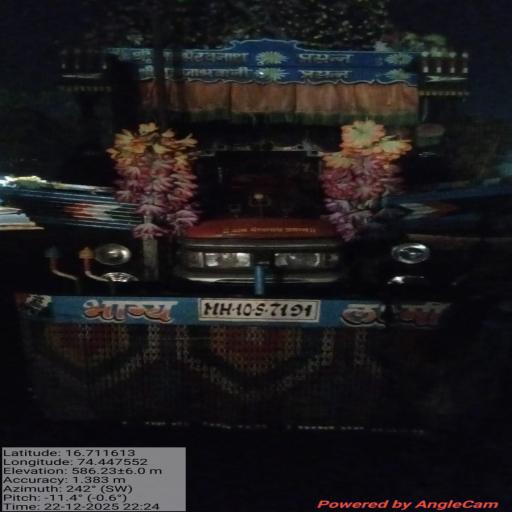number_plate: (195, 294, 332, 326)
